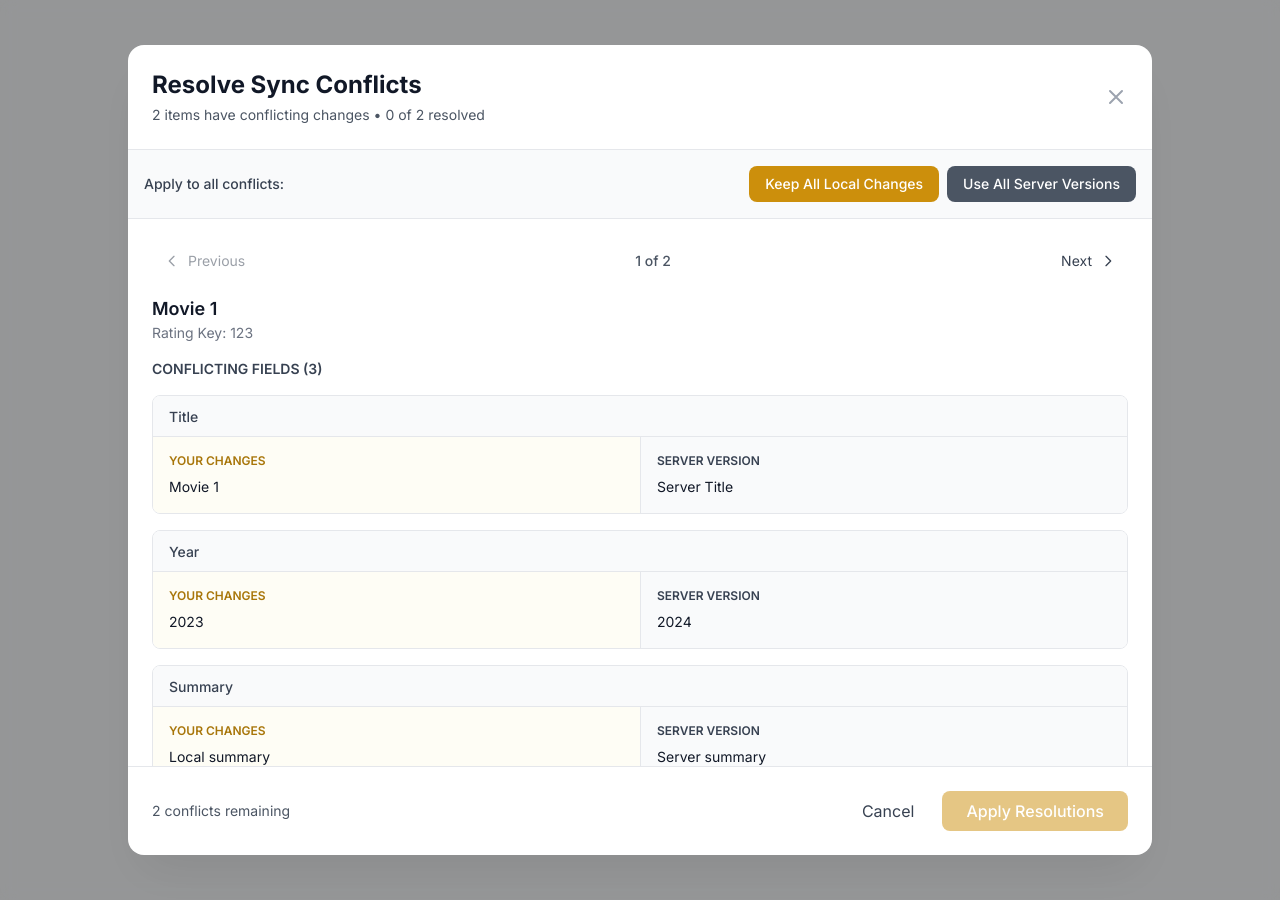
Test: ConflictResolutionModal › Navigation › should navigate to next conflict
Expected: the heading "Movie 1" is shown, [152,298,217,319]
Click the button "Next" at (1089, 261), box [1049,243,1128,279]
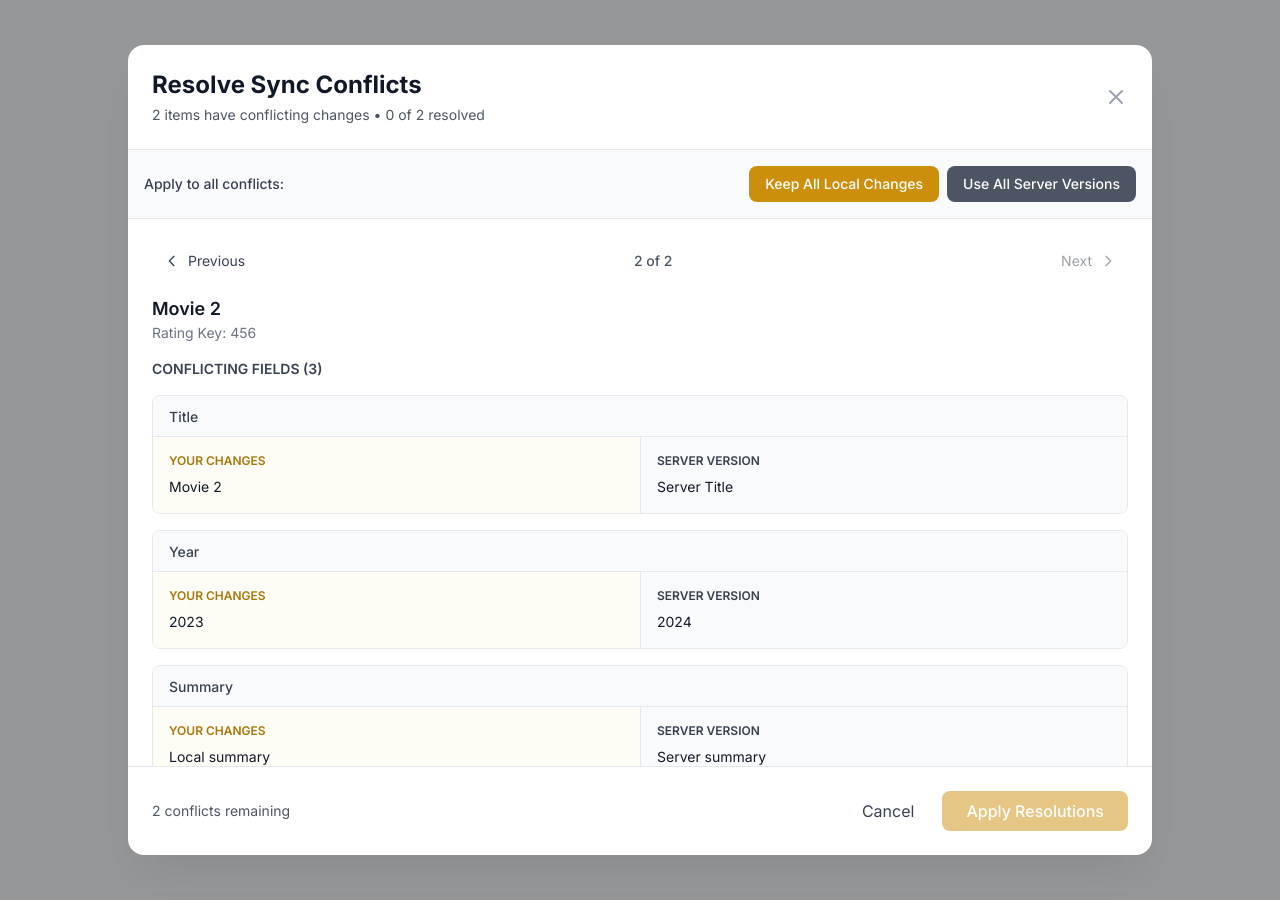
Expected: the heading "Movie 2" is shown, [152,298,221,319]
Expected: the text "2 of 2" is shown, [634,251,672,271]
